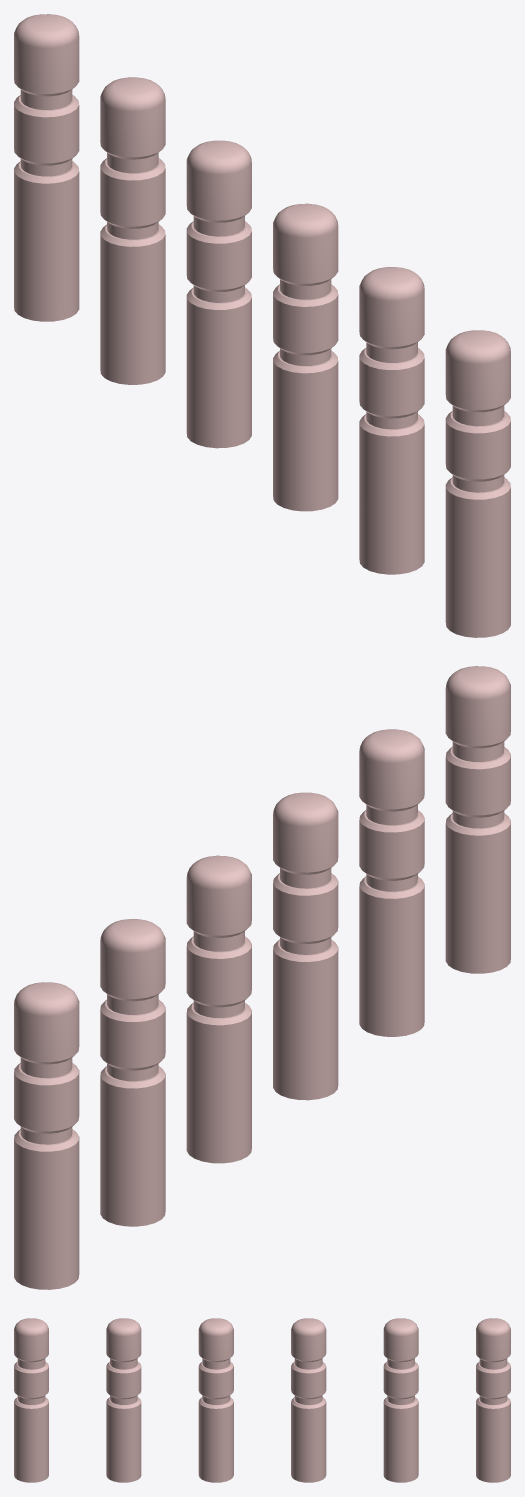
Rendered from Bollard_Poles.fbx.
The picture shows the model from 3 angles, top to bottom: view 1: azimuth 30°, elevation 25°; view 2: azimuth 150°, elevation 25°; view 3: azimuth 270°, elevation 25°; orthographic projection. The views are drawn at different scales.
Parts seen in each view (by area): view 1: Bollard_Poles; view 2: Bollard_Poles; view 3: Bollard_Poles.
Boxes of the visible parts, x1=… form: Bollard_Poles: x1=14, y1=14, x2=510, y2=637; Bollard_Poles: x1=14, y1=666, x2=510, y2=1289; Bollard_Poles: x1=14, y1=1318, x2=510, y2=1482.
Bounding box in the file's own units: 0.2527 × 1.21 × 3.58.
